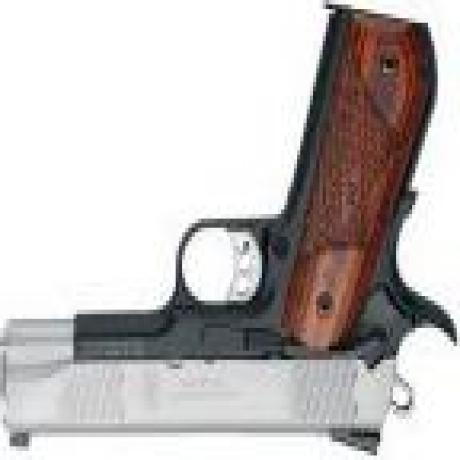weapon: (4, 0, 454, 449)
